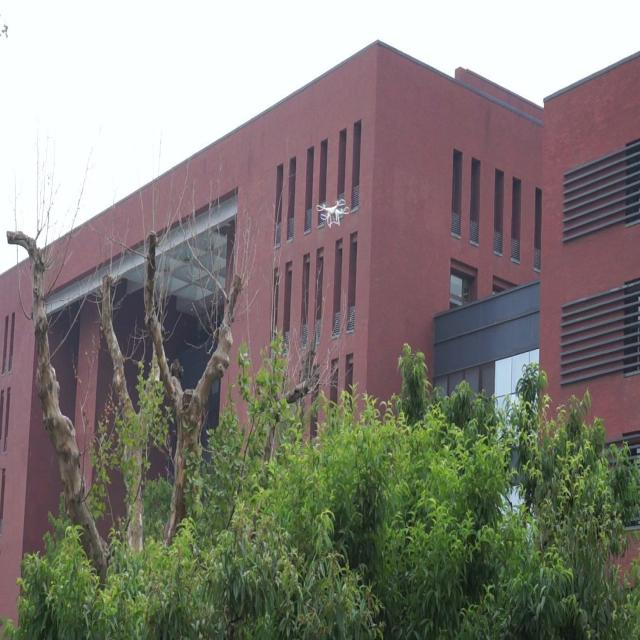UAV: (316, 199, 350, 228)
